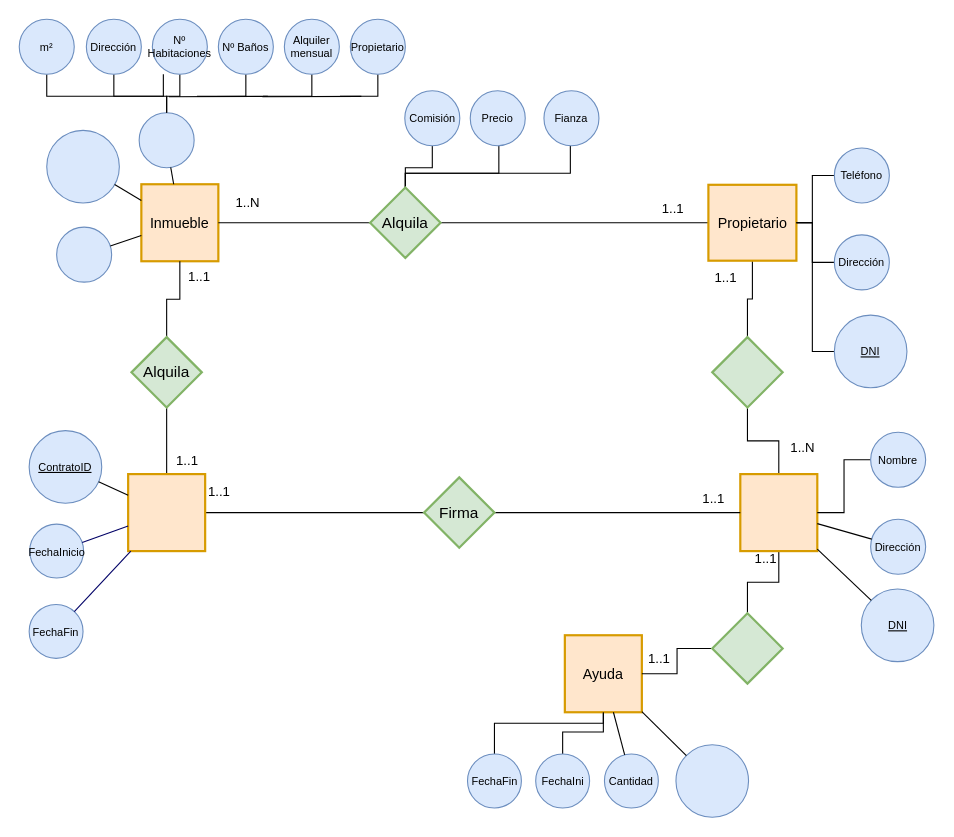
This 954x837 diagram has some shape labels left out. Here are the shapes that lost their labels. From the top down, the centre of each, then its label:
At point (166, 140): "InmuInfo".
At point (82, 166): "InmuID".
At point (84, 254): "TIpo".
At point (747, 372): "Avala".
At point (166, 512): "Contrato".
At point (778, 512): "Inquilino".
At point (747, 648): "Solicita".
At point (712, 780): "AyudaID".
